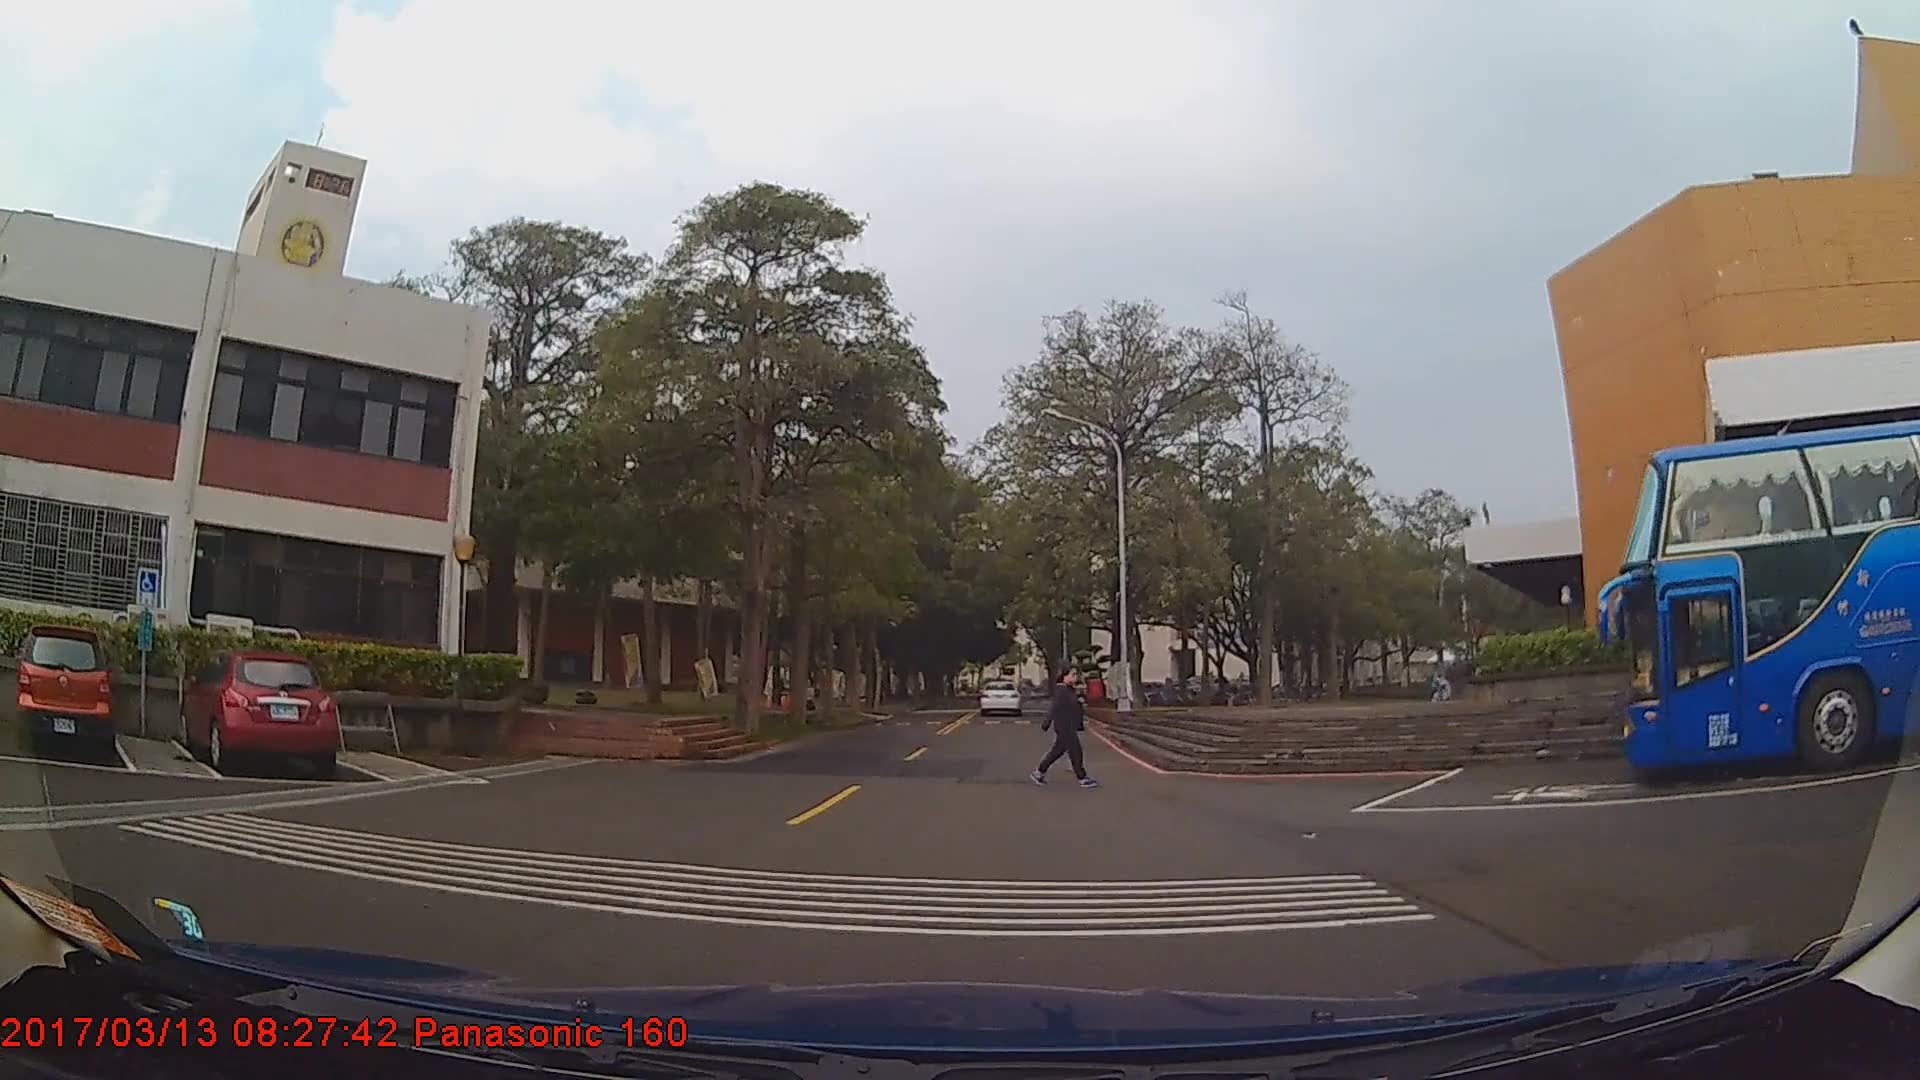pedestrian: (1033, 660, 1099, 791)
vehicle: (1619, 417, 1920, 785), (175, 651, 339, 777), (18, 624, 115, 752), (979, 676, 1020, 715)
